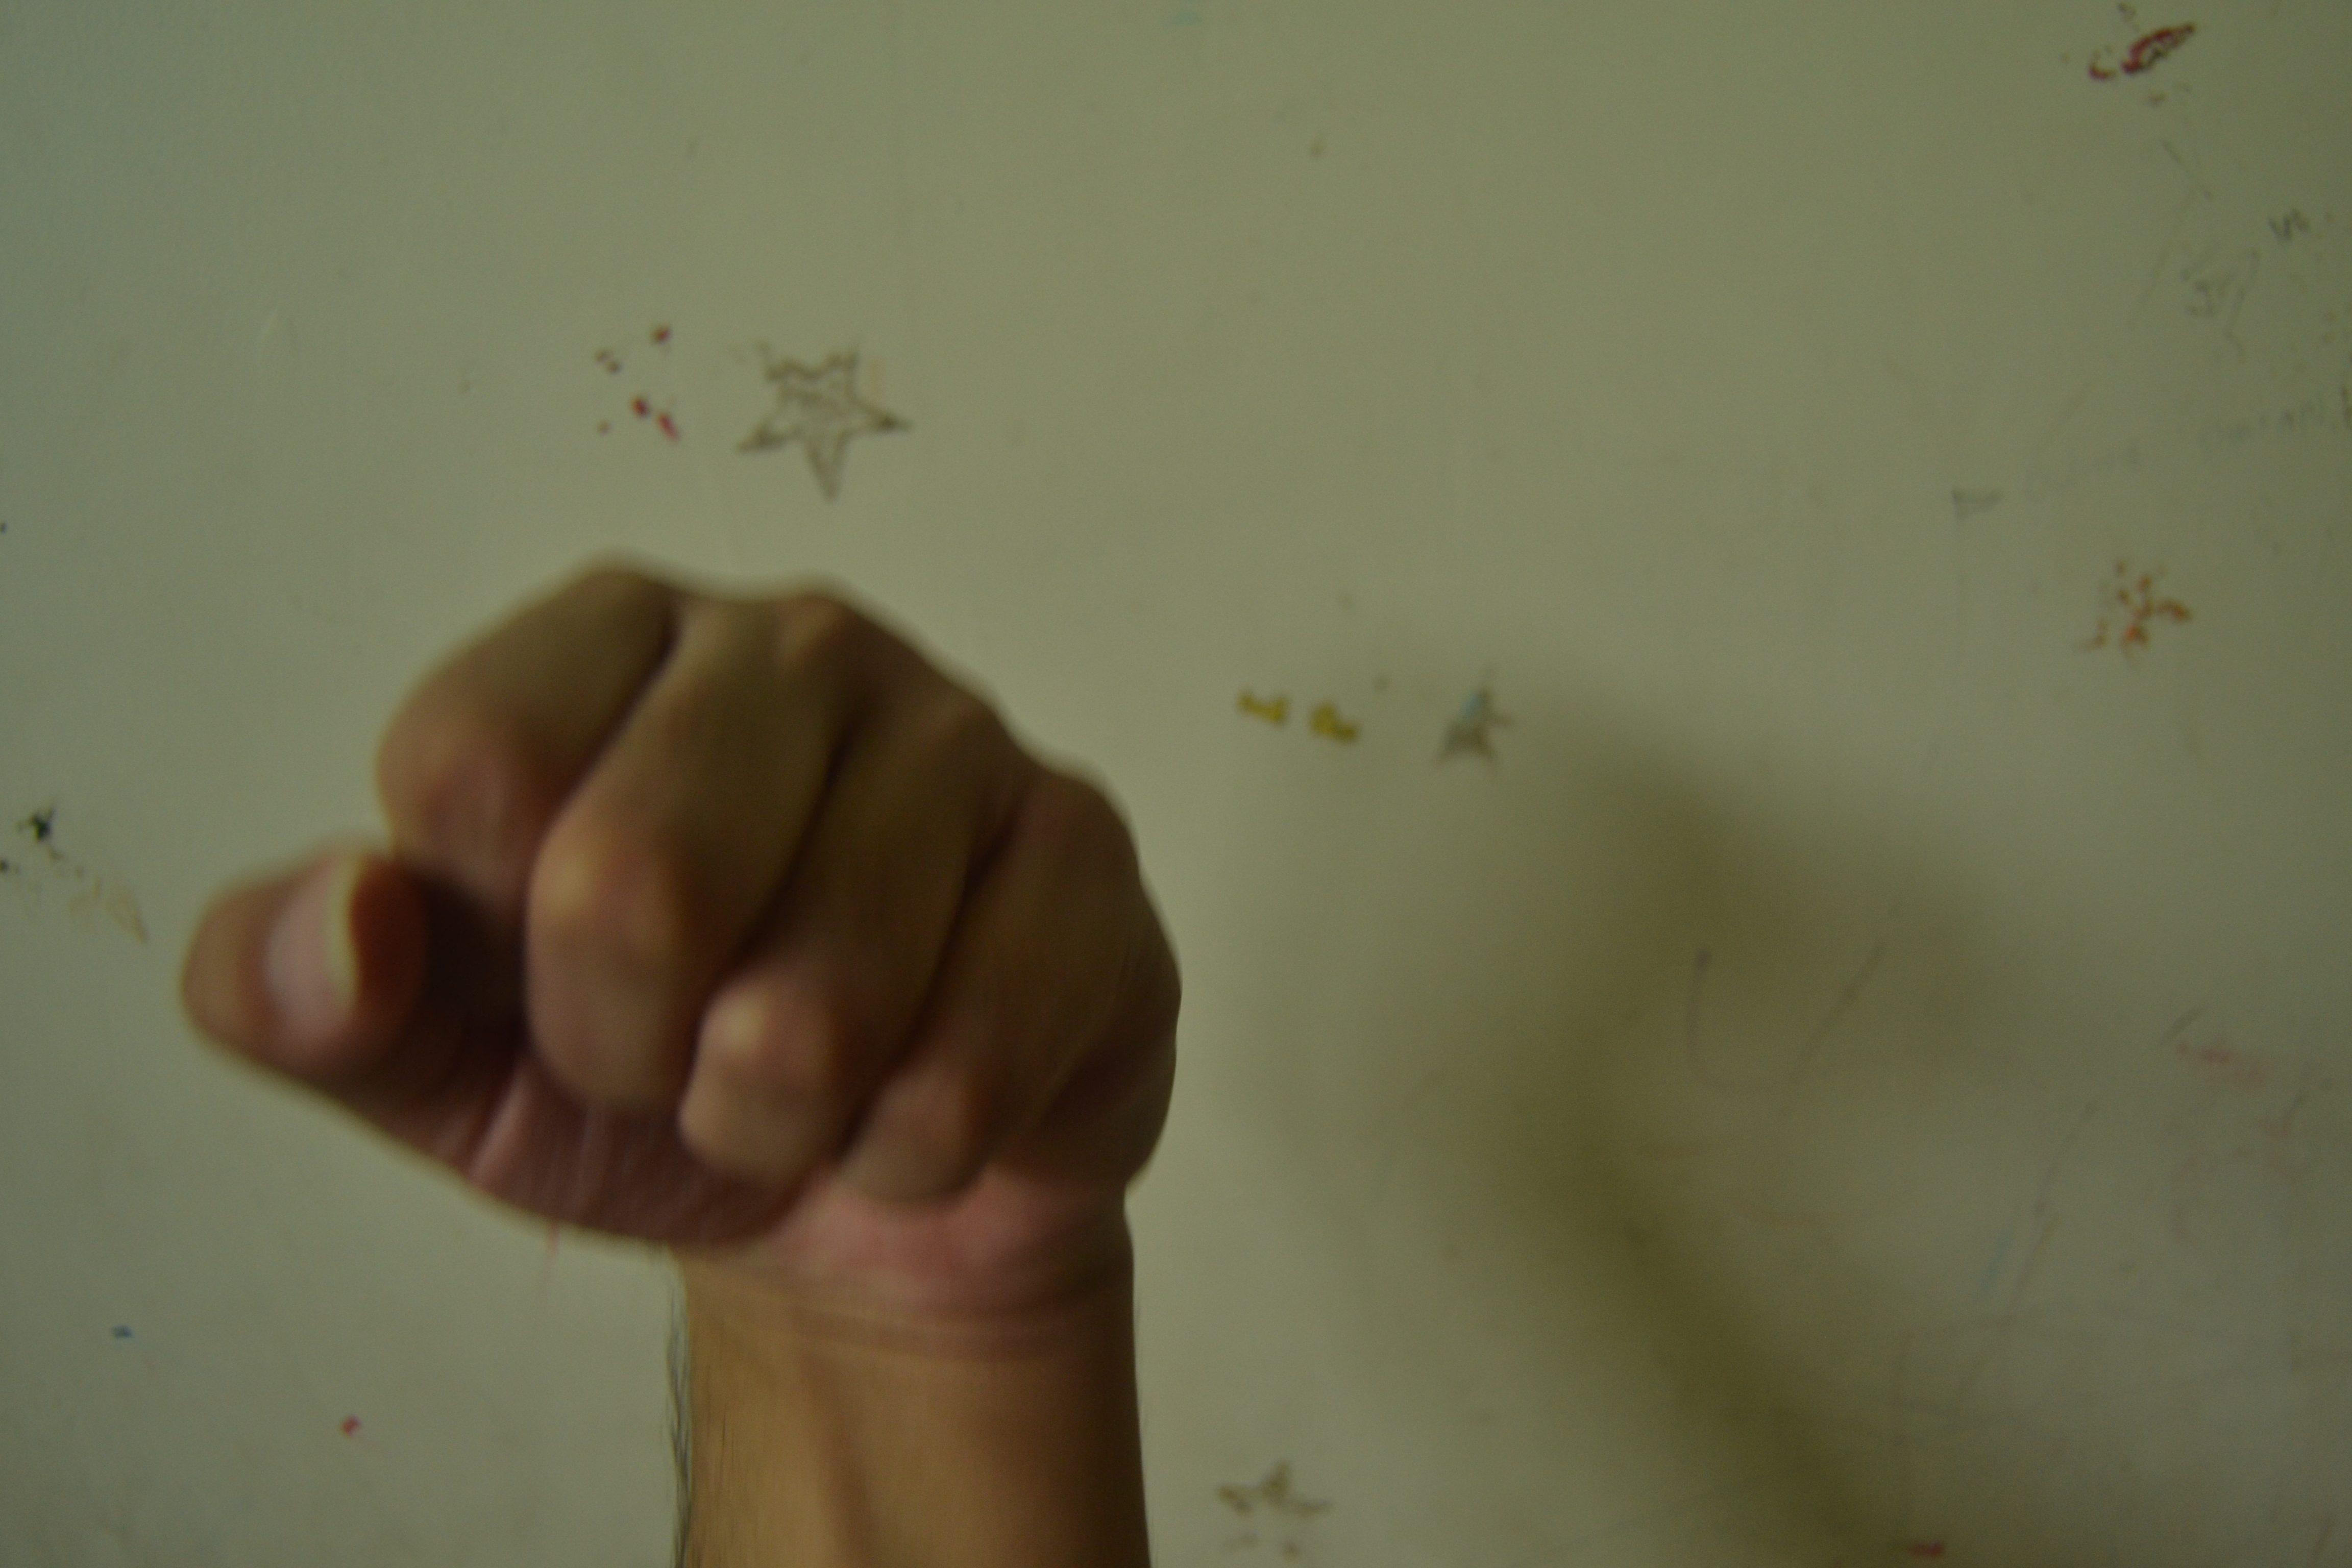click: (159, 411, 1396, 1505)
